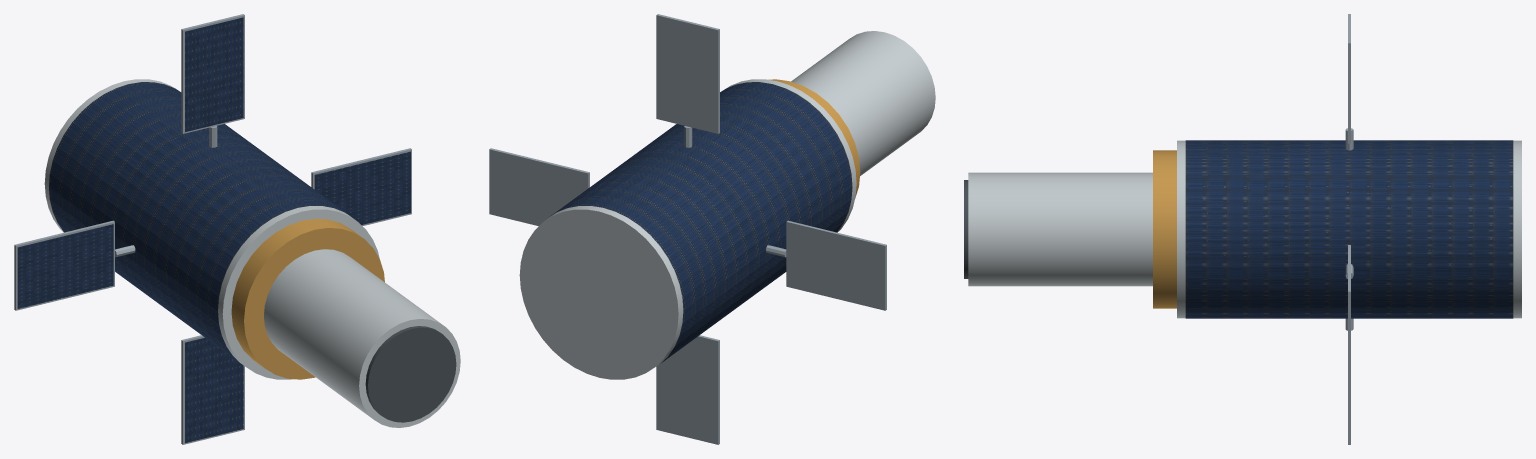
Rendered from ref-dsp-p2-8482.glb.
The picture shows the model from 3 angles, left to right: view 1: azimuth 30°, elevation 25°; view 2: azimuth 150°, elevation 25°; view 3: azimuth 270°, elevation 25°; orthographic projection. The views are drawn at different scales.
Parts seen in each view (by area): view 1: Body-mounted solar cells, Solar cell panel (×4), Optical instrument housing, Despun equipment deck, Telescope aperture, Solar drum core, Radial paddle frame (×4); view 2: Body-mounted solar cells, Radial paddle frame (×4), Solar drum core, Optical instrument housing, Despun equipment deck; view 3: Body-mounted solar cells, Optical instrument housing, Despun equipment deck, Solar drum core.
Boxes of the visible parts, left/top/right/bottom form: Body-mounted solar cells: left=49, top=82, right=352, bottom=363; Solar cell panel (×4): left=17, top=17, right=410, bottom=442; Optical instrument housing: left=264, top=249, right=460, bottom=427; Despun equipment deck: left=231, top=218, right=384, bottom=379; Telescope aperture: left=365, top=326, right=456, bottom=422; Solar drum core: left=44, top=79, right=379, bottom=379; Radial paddle frame (×4): left=14, top=14, right=411, bottom=444; Body-mounted solar cells: left=550, top=82, right=852, bottom=363; Radial paddle frame (×4): left=489, top=14, right=886, bottom=444; Solar drum core: left=519, top=79, right=856, bottom=379; Optical instrument housing: left=791, top=31, right=935, bottom=175; Despun equipment deck: left=769, top=79, right=860, bottom=197; Body-mounted solar cells: left=1185, top=140, right=1513, bottom=318; Optical instrument housing: left=968, top=172, right=1152, bottom=286; Despun equipment deck: left=1153, top=150, right=1176, bottom=308; Solar drum core: left=1177, top=140, right=1521, bottom=318.
Bounding box in the file's own units: 7.48 × 7.48 × 9.42.
Materials: 5 (1 with a texture image).
